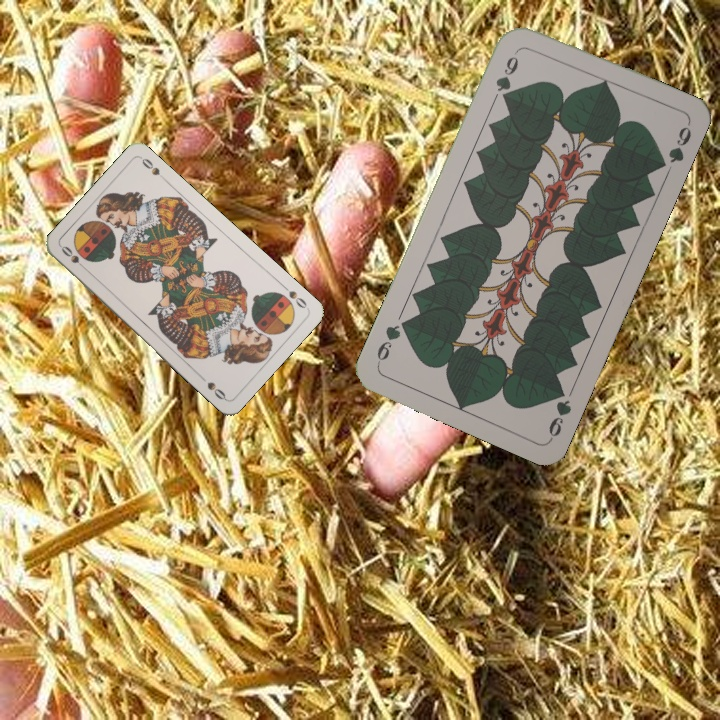G9: (490, 45, 522, 104), (544, 382, 574, 442)
SO: (57, 241, 90, 274), (277, 280, 310, 311)
